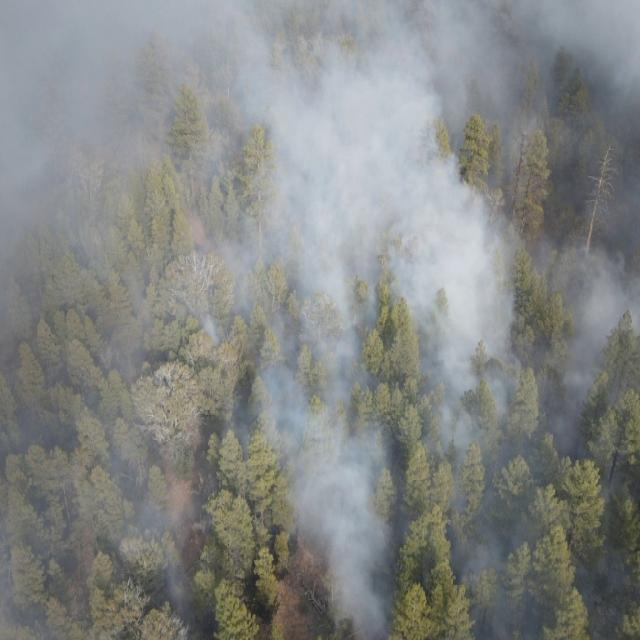smoke: (0, 0, 640, 374), (261, 375, 640, 640), (0, 375, 206, 640)
